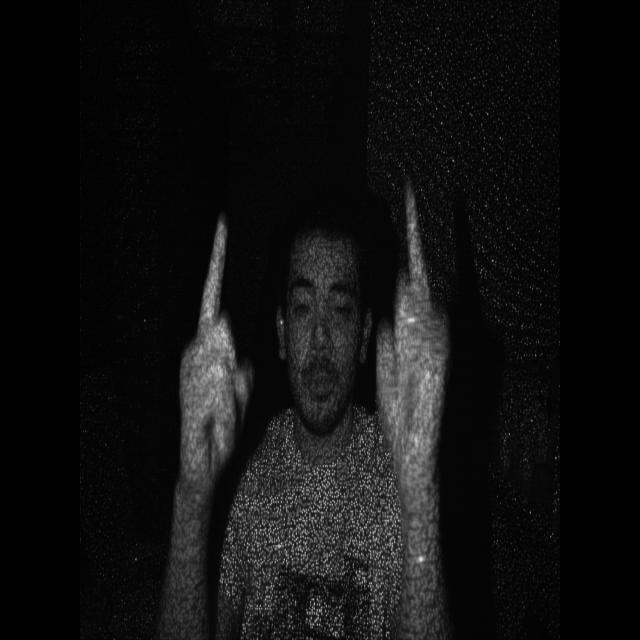STARS: (374, 202, 458, 482), (172, 200, 254, 470)
